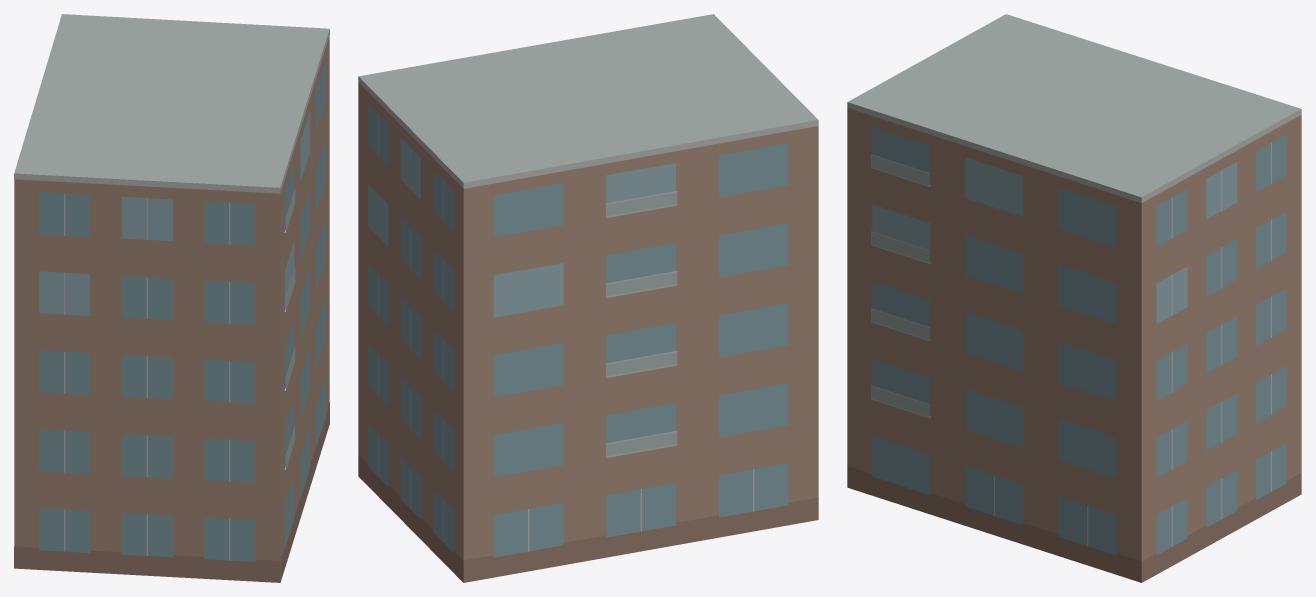
File: survey-upis-32890014.glb
3 renders of one model, left to right at view 1: azimuth 30°, elevation 25°; view 2: azimuth 150°, elevation 25°; view 3: azimuth 270°, elevation 25°, orthographic. The views are drawn at different scales.
Visible parts, largest first — view 1: survey-upis-32890014.tmp; view 2: survey-upis-32890014.tmp; view 3: survey-upis-32890014.tmp.
Part boxes in pixels (left/top/right/bottom): survey-upis-32890014.tmp: left=14, top=14, right=329, bottom=582; survey-upis-32890014.tmp: left=358, top=14, right=818, bottom=582; survey-upis-32890014.tmp: left=847, top=14, right=1301, bottom=582.
Bounding box in the file's own units: 16.74 × 16.4 × 17.52.
